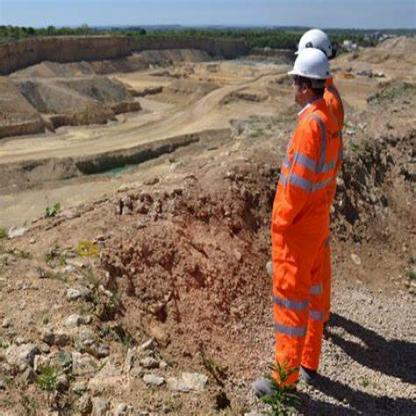person: (278, 22, 363, 393)
